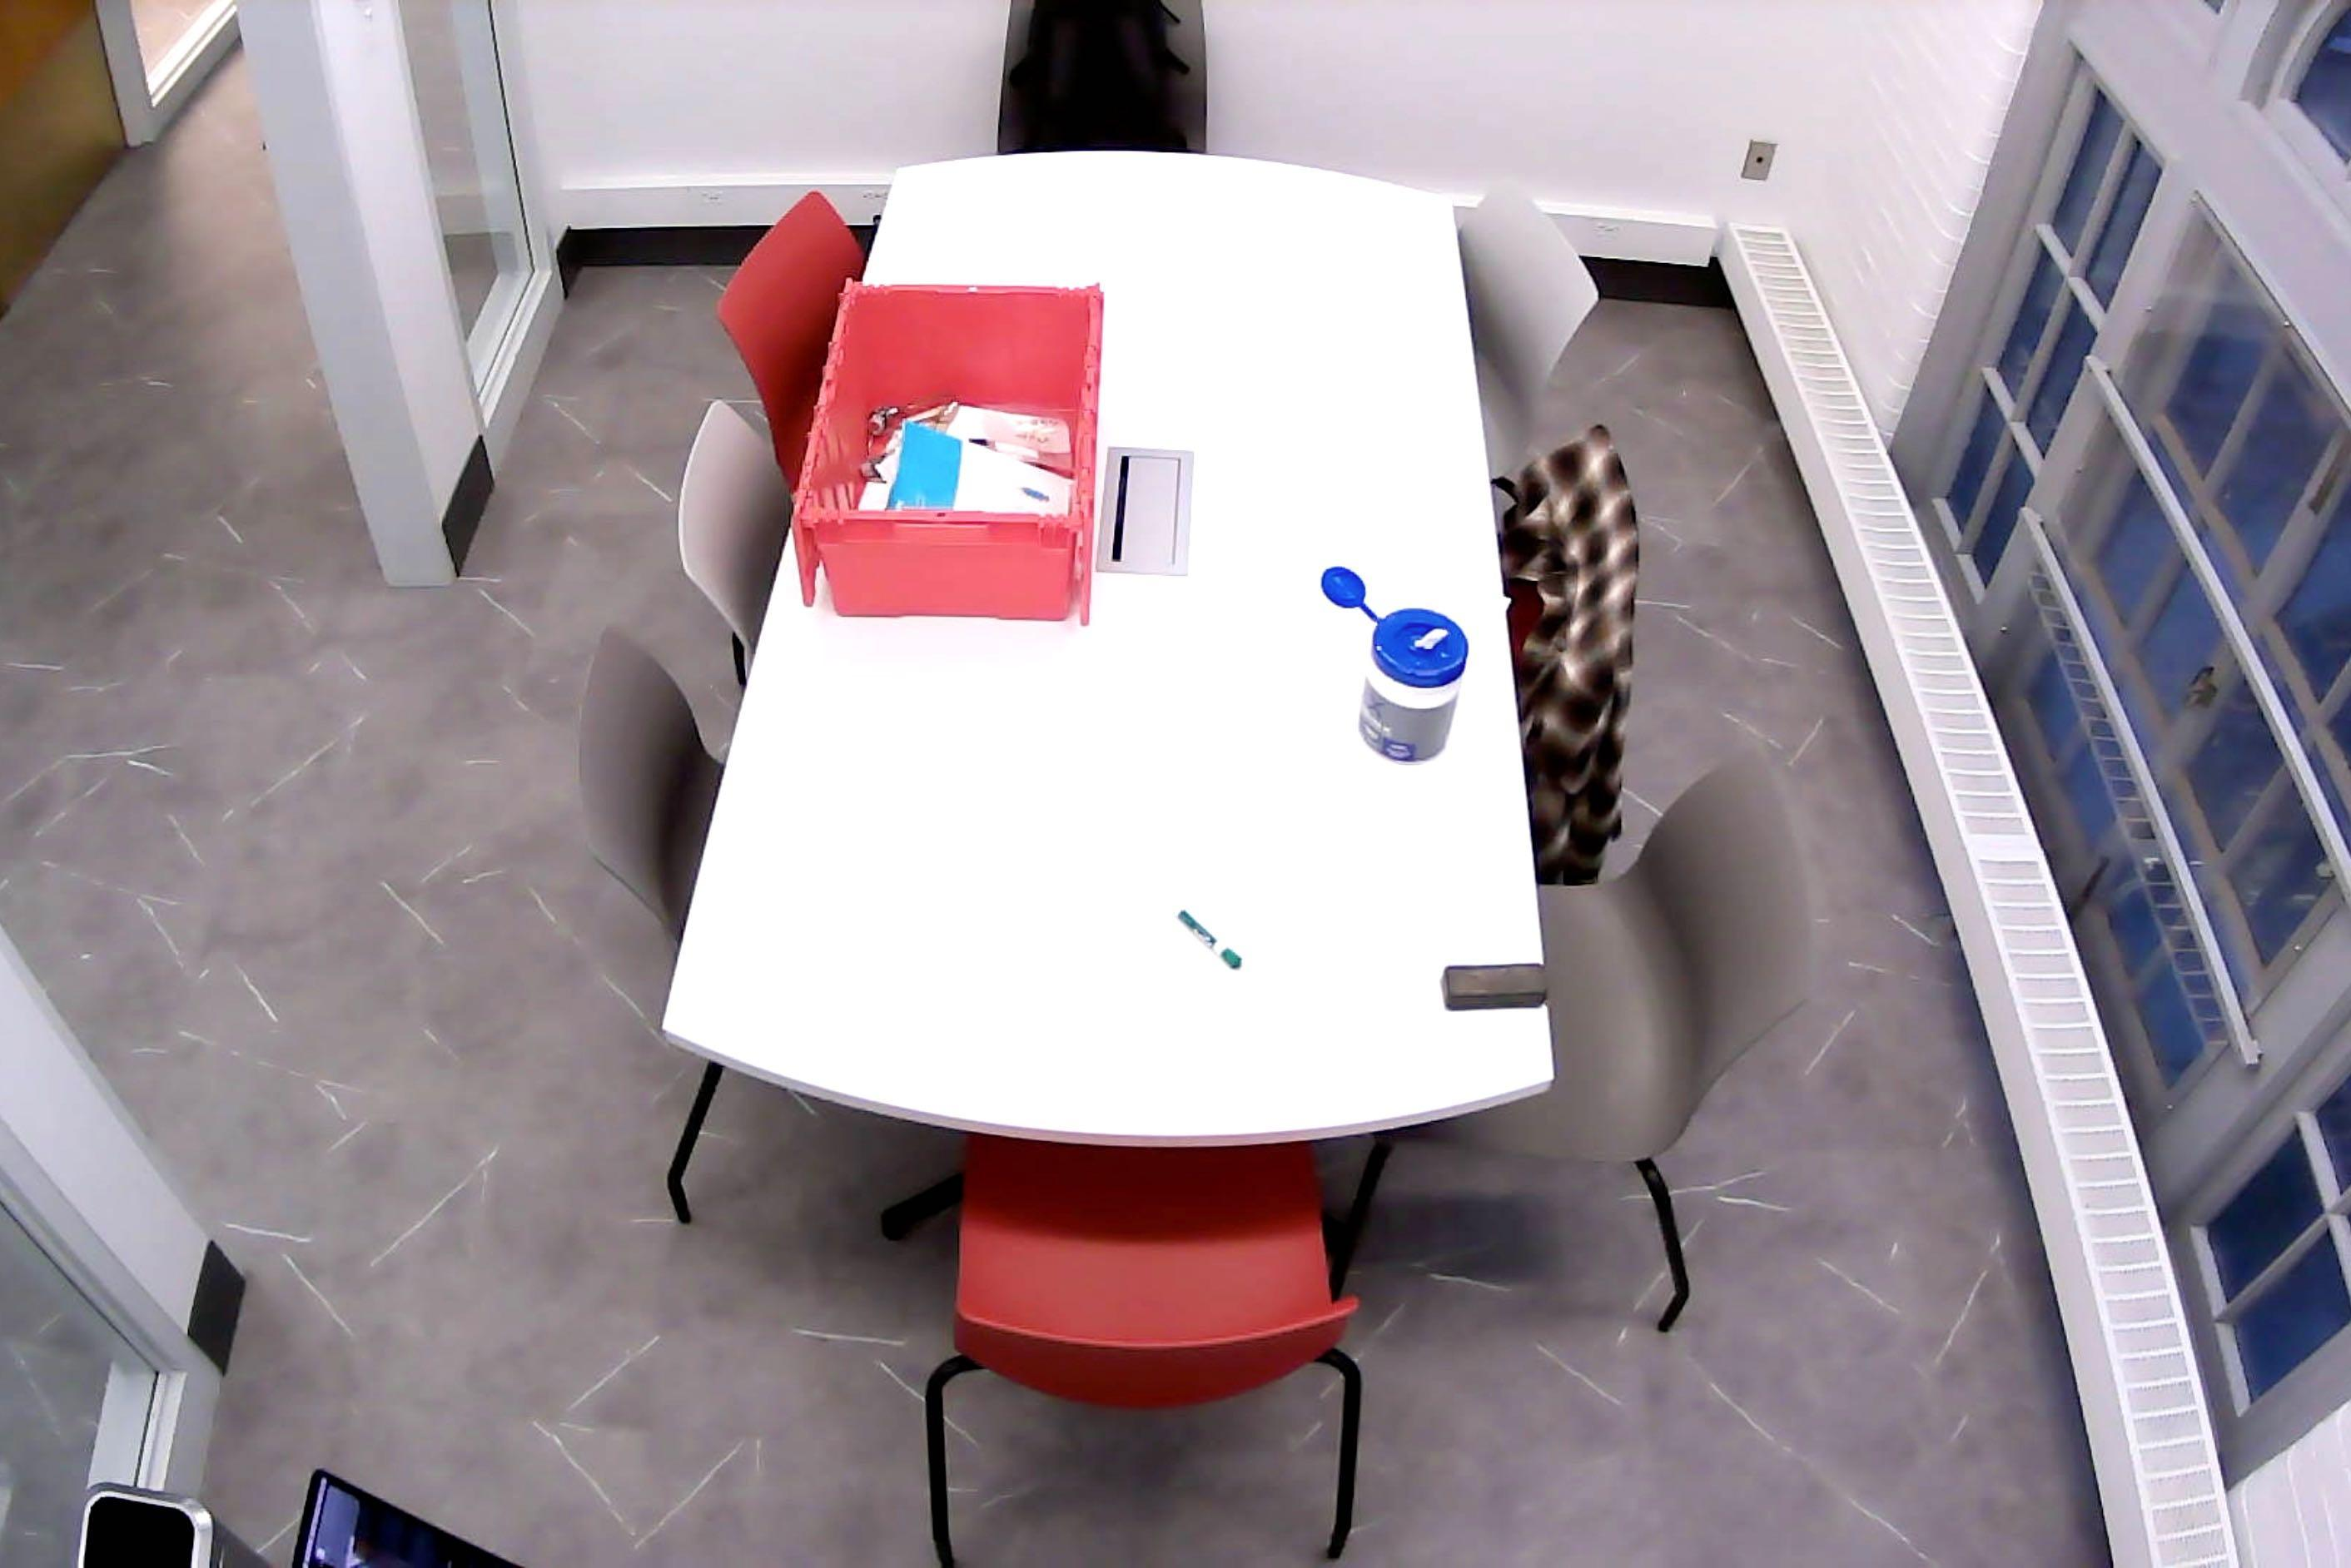Backpack: (1000, 0, 1199, 152)
Chair: (1341, 746, 1824, 1334), (923, 1143, 1365, 1568), (578, 627, 742, 1230), (1512, 425, 1644, 873), (714, 186, 868, 497), (1460, 173, 1600, 502), (681, 401, 798, 672), (1001, 0, 1208, 152)
Dining Table: (658, 152, 1556, 1251)
